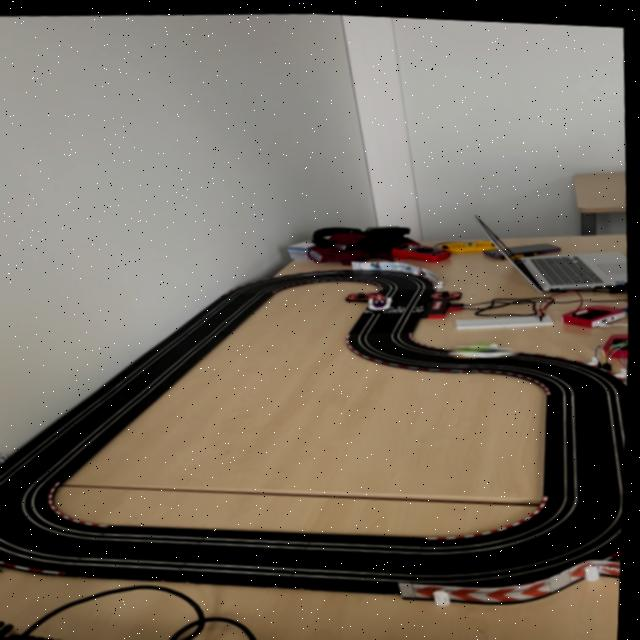mario: (366, 287, 399, 309)
yoshi: (449, 335, 527, 359)
